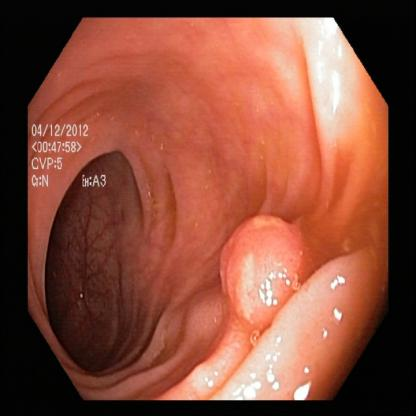Labels: (31, 111, 133, 203)
Polyps: (211, 202, 311, 341)
